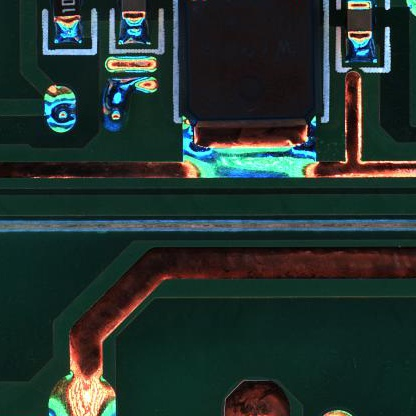spot: (42, 81, 77, 135)
